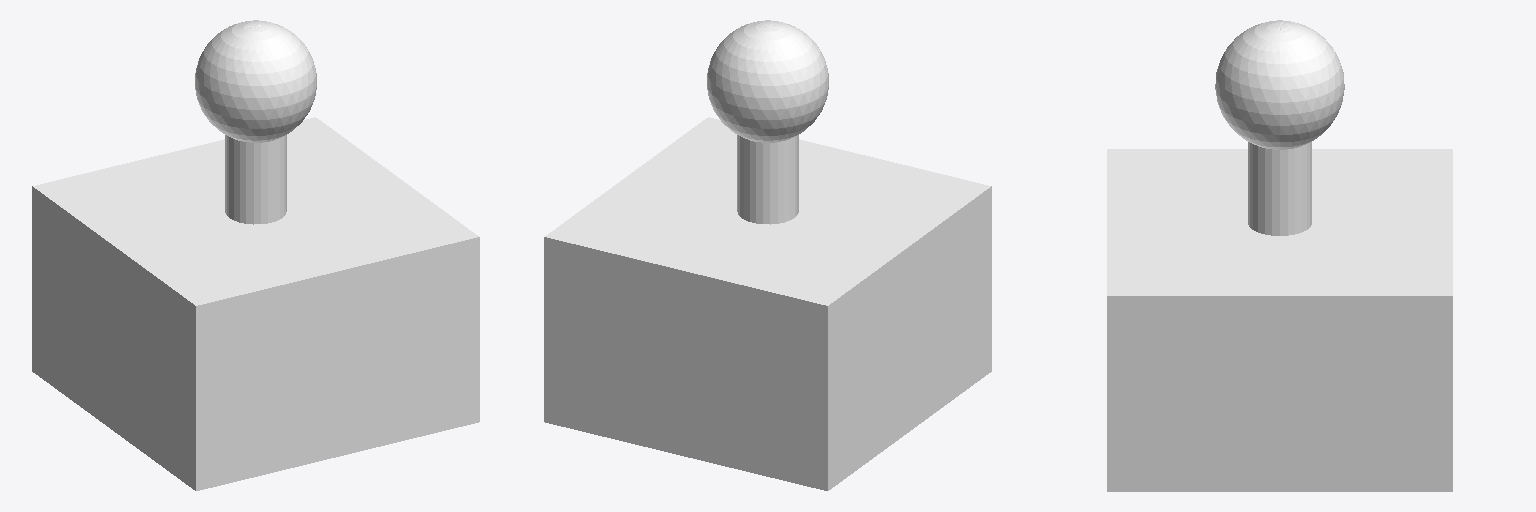
URDF robot description (sphere):
<robot name="sphere">
	<link name="_name">
		<visual>
			<origin rpy="0 0 0" xyz="-9.445153239905e-09 1.3923445176319547e-11 -0.0062339254108575584" />
			<geometry>
				<mesh filename="sphere.obj" scale=".001 .001 .001" />
			</geometry>
			<material name="texture">
				<color rgba="1.0 1.0 1.0 1.0" />
			</material>
		</visual>
		<collision>
			<geometry>
				<mesh filename="sphere_vhacd.obj" scale=".001 .001 .001" />
			</geometry>
		<origin rpy="0 0 0" xyz="-9.445153239905e-09 1.3923445176319547e-11 -0.0062339254108575584" /></collision>
		<inertial>
			<mass value="1.0" />
			<inertia ixx="1.0" ixy="0.0" ixz="0.0" iyy="1.0" iyz="0.0" izz="1.0" />
		</inertial>
	</link>
</robot>

--- Render facts (derived) ---
Views: 3 orthographic renders of the robot side by side, from view 1: azimuth 30°, elevation 25°; view 2: azimuth 150°, elevation 25°; view 3: azimuth 270°, elevation 25°.
Model sphere with 1 links and 0 joints (none), rooted at _name, posed every joint at zero.
Visible links, largest first — view 1: _name; view 2: _name; view 3: _name.
Link boxes in pixels (x1,y1,x2,y2): _name: (32, 20, 479, 490); _name: (544, 20, 991, 490); _name: (1107, 20, 1452, 491).
Size in the robot's own frame: 0.016 by 0.016 by 0.02 metres.
Meshes: 1 distinct files referenced, 1 mesh visuals loaded (1 OBJ).